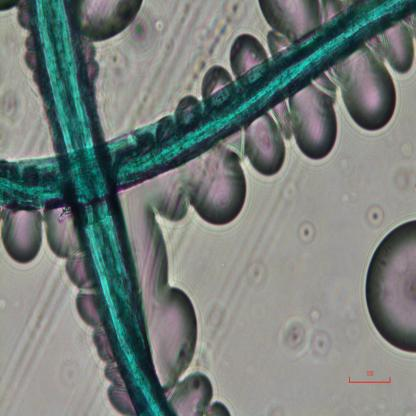Air bubble: (40, 210, 127, 413), (140, 179, 199, 384), (361, 214, 416, 359), (335, 50, 401, 137), (182, 154, 250, 233), (246, 104, 295, 185), (70, 0, 144, 41), (172, 370, 232, 415), (126, 14, 176, 61), (2, 210, 42, 267), (257, 1, 321, 35), (378, 25, 416, 75), (230, 29, 264, 77), (200, 62, 229, 95), (341, 398, 391, 416)
Background material: (4, 291, 66, 405), (290, 85, 344, 168), (192, 1, 244, 74), (283, 306, 332, 362), (326, 271, 360, 343), (200, 305, 230, 369), (94, 40, 129, 84), (336, 157, 366, 207), (392, 132, 416, 192), (0, 83, 24, 131), (272, 172, 301, 204), (60, 346, 82, 388), (244, 260, 270, 290), (295, 216, 317, 247), (364, 199, 384, 229), (135, 90, 151, 118), (267, 399, 283, 416)
Microfibre: (0, 0, 416, 209), (30, 1, 173, 415)
